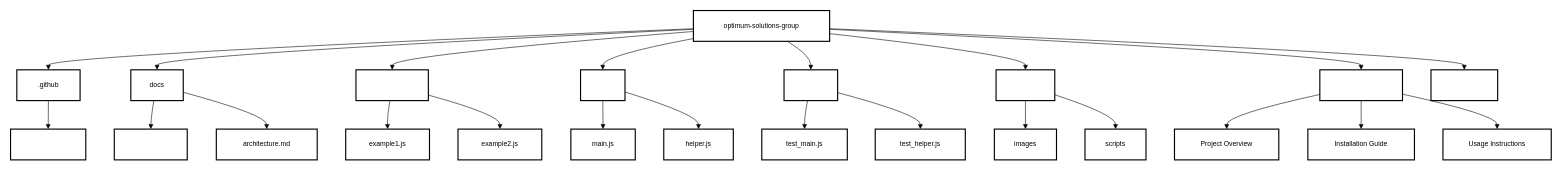
Some shapes in this 1561 by 170 pixel diagram are drawn without their labels. The centre of each missing label's shape, as x and y in pixels:
assets: the point at 1025,85
examples: the point at 392,85
lib: the point at 602,85
LICENSE: the point at 1464,85
README.md: the point at 1361,85
tests: the point at 810,85
usage.md: the point at 150,144
workflows: the point at 48,144
